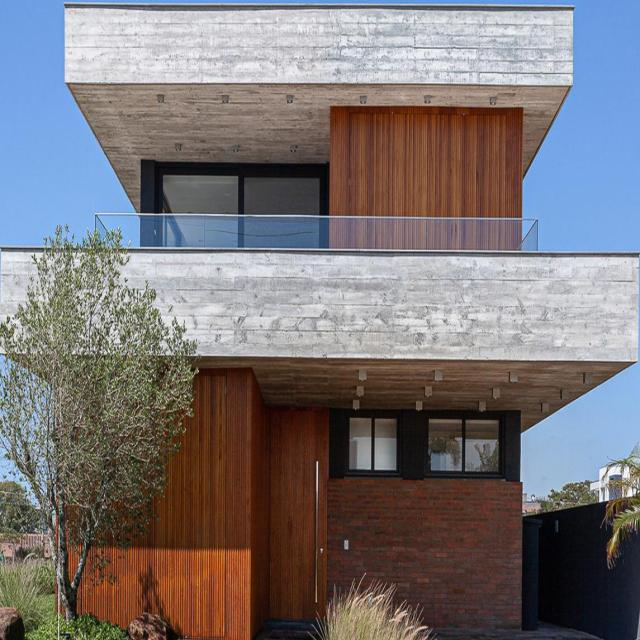Railing: (95, 214, 539, 253)
door: (268, 411, 332, 622)
plant: (0, 227, 199, 621), (308, 572, 438, 639), (0, 557, 61, 639), (598, 441, 639, 557)
wall: (1, 3, 639, 638)
windows: (158, 164, 326, 214), (428, 424, 502, 471), (348, 417, 397, 475)
